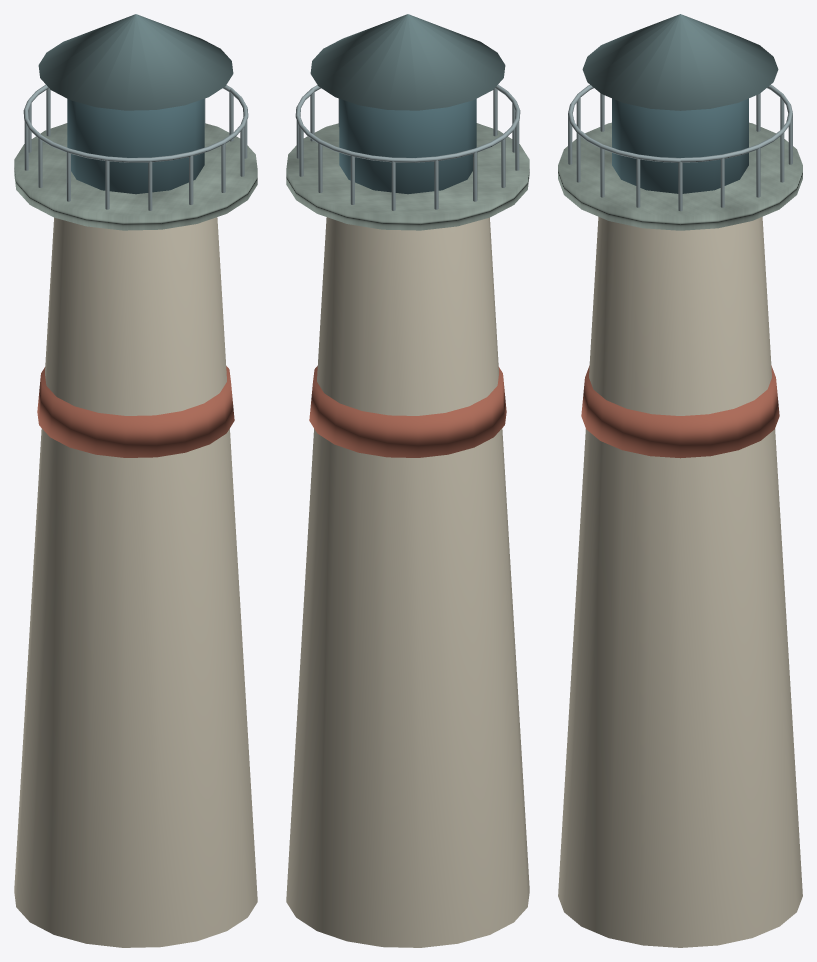
The model's file is lighthouse.glb.
3 renders of one model, left to right at view 1: azimuth 30°, elevation 25°; view 2: azimuth 150°, elevation 25°; view 3: azimuth 270°, elevation 25°, orthographic.
Visible parts, largest first — view 1: tower, roof, balcony, lantern, red_band, static_steel; view 2: tower, roof, balcony, lantern, red_band, static_steel; view 3: tower, roof, balcony, lantern, red_band, static_steel.
Boxes of the visible parts, box(x1,y1,x2,y2) form: tower: box(14, 217, 257, 947); roof: box(38, 14, 233, 110); balcony: box(14, 123, 257, 230); lantern: box(67, 98, 204, 194); red_band: box(37, 366, 234, 457); static_steel: box(23, 84, 248, 210); tower: box(286, 217, 529, 947); roof: box(310, 14, 505, 110); balcony: box(286, 123, 529, 230); lantern: box(339, 98, 476, 194); red_band: box(309, 366, 506, 457); static_steel: box(295, 84, 520, 210); tower: box(558, 217, 802, 947); roof: box(582, 14, 778, 110); balcony: box(558, 122, 802, 230); lantern: box(612, 98, 748, 193); red_band: box(581, 365, 779, 458); static_steel: box(568, 85, 792, 211).
Bounding box in the file's own units: 4 × 15.9 × 4.
Materials: 7 (1 with a texture image).
